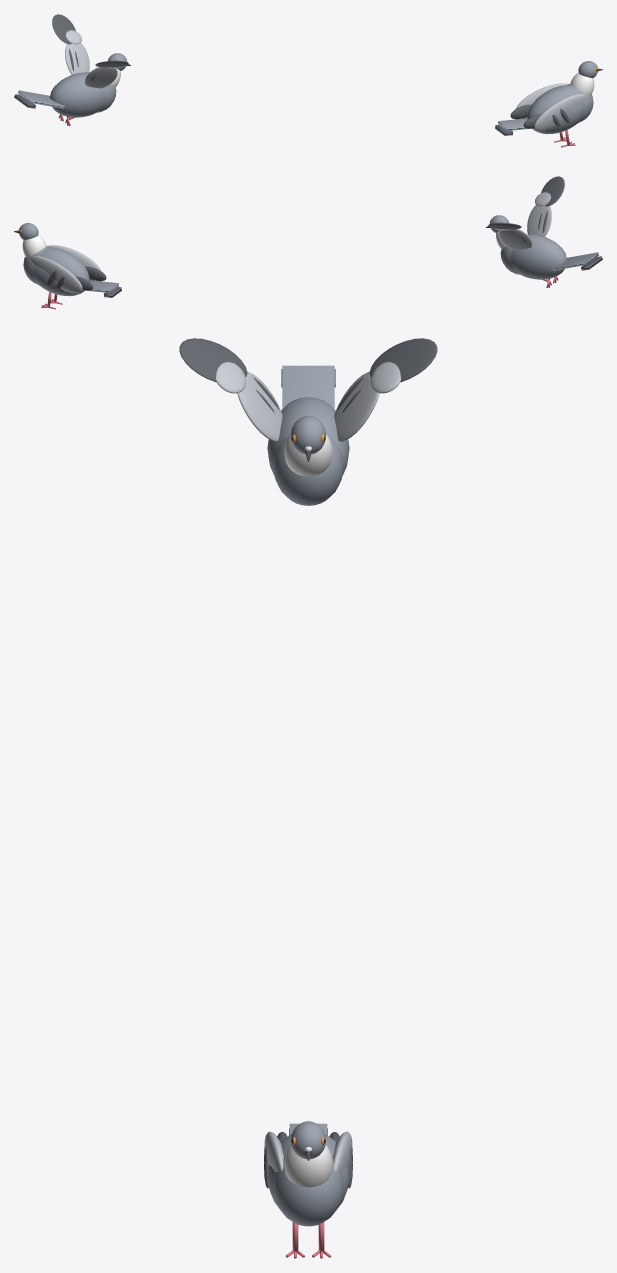
File: pigeon.glb
The picture shows the model from 3 angles, top to bottom: view 1: azimuth 30°, elevation 25°; view 2: azimuth 150°, elevation 25°; view 3: azimuth 270°, elevation 25°; orthographic projection. The views are drawn at different scales.
Parts seen in each view (by area): view 1: Body_F, Body, Wing_R, FWing_L, FWing_R, FPrimaries_L, Tail_F, Neck, Wing_L, Chest, Tail, Head (+2 smaller); view 2: Body_F, Body, Wing_L, FWing_R, FWing_L, FPrimaries_R, Tail_F, Neck, Wing_R, Chest, Tail, Head (+2 smaller); view 3: Chest, Chest_F, Body_F, Tail_F, FWing_L, FWing_R, FPrimaries_L, FPrimaries_R, Neck, Neck_F.
Boxes of the visible parts, x1,y1,x2,y2 form: Body_F: (49, 72, 106, 117); Body: (527, 85, 583, 134); Wing_R: (534, 94, 586, 131); FWing_L: (65, 43, 89, 74); FWing_R: (84, 67, 117, 88); FPrimaries_L: (52, 14, 75, 44); Tail_F: (18, 90, 64, 108); Neck: (570, 72, 594, 95); Wing_L: (516, 83, 568, 118); Chest: (566, 84, 593, 122); Tail: (498, 118, 533, 130); Head: (578, 61, 597, 78); Body_F: (510, 234, 567, 279); Body: (33, 247, 89, 296); Wing_L: (30, 256, 82, 293); FWing_R: (527, 205, 551, 236); FWing_L: (499, 229, 532, 250); FPrimaries_R: (541, 176, 564, 206); Tail_F: (552, 252, 598, 270); Neck: (22, 234, 46, 257); Wing_R: (48, 245, 100, 280); Chest: (23, 246, 50, 284); Tail: (83, 280, 118, 292); Head: (19, 223, 38, 240); Chest: (273, 1155, 343, 1226); Chest_F: (273, 433, 343, 505); Body_F: (267, 397, 349, 475); Tail_F: (282, 365, 334, 408); FWing_L: (334, 371, 379, 441); FWing_R: (237, 371, 282, 441); FPrimaries_L: (369, 338, 437, 382); FPrimaries_R: (179, 338, 247, 382); Neck: (284, 1144, 332, 1187); Neck_F: (284, 434, 332, 476).
Bounding box in the file's own units: 7.19 × 2.62 × 1.38.
